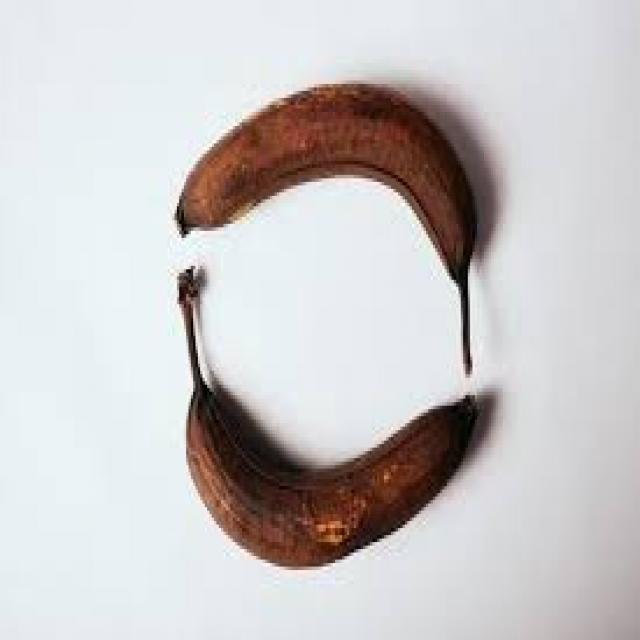organic waste: (175, 262, 477, 570), (172, 80, 475, 371)
